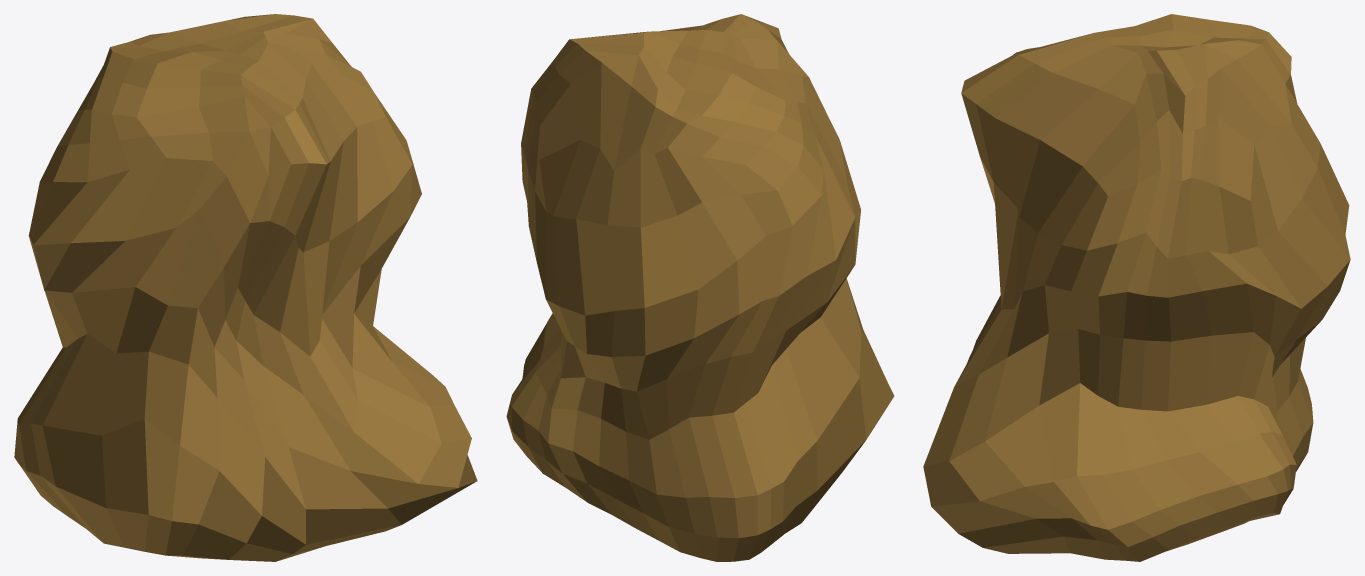
The model's file is TallWaterRock.fbx.
3 views of the same model, side by side, from view 1: azimuth 30°, elevation 25°; view 2: azimuth 150°, elevation 25°; view 3: azimuth 270°, elevation 25° (orthographic). The views are drawn at different scales.
Visible parts, largest first — view 1: Water Rock 2; view 2: Water Rock 2; view 3: Water Rock 2.
Part boxes in pixels (x1,y1,x2,y2): Water Rock 2: (14,14,477,561); Water Rock 2: (506,14,894,561); Water Rock 2: (923,14,1350,561).
Bounding box in the file's own units: 5.16 × 6.8 × 5.09.
